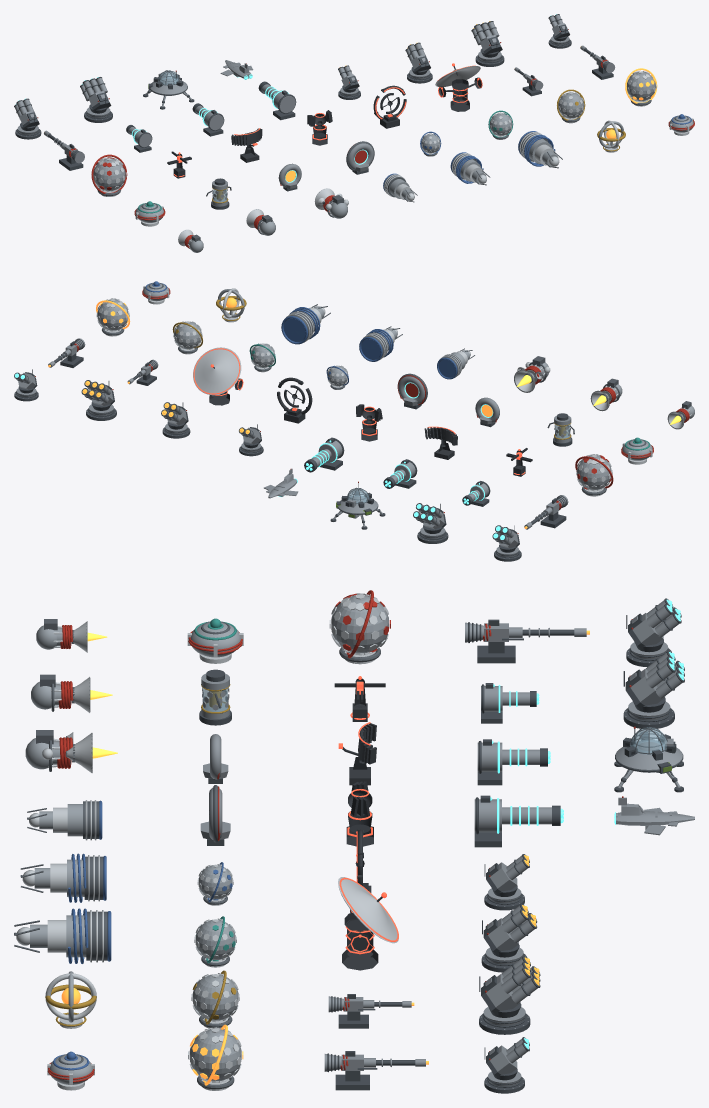
Rendered from device_constructor.glb.
3 views of the same model, one above another, from view 1: azimuth 30°, elevation 25°; view 2: azimuth 150°, elevation 25°; view 3: azimuth 270°, elevation 25° (orthographic). The views are drawn at different scales.
Parts seen in each view (by area): view 1: 021_humans_SCANNER_5, 016_humans_SHIELD_TIME_2, 005_humans_INTERSTELLAR_ENGINE_3, 033_humans_WEAPON_PHAZER_RAPID_3, 030_humans_WEAPON_LAZER_RAPID_3, 015_humans_SHIELD_SMART_2, 004_humans_INTERSTELLAR_ENGINE_2, 034_humans_AUX_COLONY_BASE, 032_humans_WEAPON_PHAZER_RAPID_2, 029_humans_WEAPON_LAZER_RAPID_2, 027_humans_WEAPON_PHAZER_BEAM_3, 014_humans_SHIELD_TIME_1 (+22 smaller); view 2: 021_humans_SCANNER_5, 016_humans_SHIELD_TIME_2, 005_humans_INTERSTELLAR_ENGINE_3, 030_humans_WEAPON_LAZER_RAPID_3, 033_humans_WEAPON_PHAZER_RAPID_3, 015_humans_SHIELD_SMART_2, 034_humans_AUX_COLONY_BASE, 004_humans_INTERSTELLAR_ENGINE_2, 027_humans_WEAPON_PHAZER_BEAM_3, 002_humans_ENGINE_3, 011_humans_GENERATOR_5, 029_humans_WEAPON_LAZER_RAPID_2 (+22 smaller); view 3: 005_humans_INTERSTELLAR_ENGINE_3, 021_humans_SCANNER_5, 016_humans_SHIELD_TIME_2, 030_humans_WEAPON_LAZER_RAPID_3, 033_humans_WEAPON_PHAZER_RAPID_3, 004_humans_INTERSTELLAR_ENGINE_2, 015_humans_SHIELD_SMART_2, 034_humans_AUX_COLONY_BASE, 027_humans_WEAPON_PHAZER_BEAM_3, 024_humans_WEAPON_LAZER_BEAM_3, 032_humans_WEAPON_PHAZER_RAPID_2, 029_humans_WEAPON_LAZER_RAPID_2 (+23 smaller).
Part boxes in pixels (x1,y1,x2,y2): 021_humans_SCANNER_5: (435, 63, 482, 111); 016_humans_SHIELD_TIME_2: (91, 154, 127, 196); 005_humans_INTERSTELLAR_ENGINE_3: (518, 131, 562, 168); 033_humans_WEAPON_PHAZER_RAPID_3: (80, 77, 112, 122); 030_humans_WEAPON_LAZER_RAPID_3: (471, 21, 504, 66); 015_humans_SHIELD_SMART_2: (625, 68, 657, 106); 004_humans_INTERSTELLAR_ENGINE_2: (450, 152, 490, 185); 034_humans_AUX_COLONY_BASE: (143, 70, 194, 109); 032_humans_WEAPON_PHAZER_RAPID_2: (14, 98, 41, 139); 029_humans_WEAPON_LAZER_RAPID_2: (405, 42, 432, 83); 027_humans_WEAPON_PHAZER_BEAM_3: (258, 81, 296, 120); 014_humans_SHIELD_TIME_1: (557, 89, 585, 123); 021_humans_SCANNER_5: (193, 347, 243, 405); 016_humans_SHIELD_TIME_2: (575, 454, 613, 496); 005_humans_INTERSTELLAR_ENGINE_3: (281, 304, 330, 344); 030_humans_WEAPON_LAZER_RAPID_3: (81, 380, 116, 420); 033_humans_WEAPON_PHAZER_RAPID_3: (413, 503, 448, 543); 015_humans_SHIELD_SMART_2: (96, 298, 130, 336); 034_humans_AUX_COLONY_BASE: (330, 481, 385, 529); 004_humans_INTERSTELLAR_ENGINE_2: (359, 326, 402, 361); 027_humans_WEAPON_PHAZER_BEAM_3: (304, 437, 344, 472); 002_humans_ENGINE_3: (514, 356, 550, 392); 011_humans_GENERATOR_5: (397, 373, 427, 409); 029_humans_WEAPON_LAZER_RAPID_2: (161, 402, 190, 438); 005_humans_INTERSTELLAR_ENGINE_3: (14, 908, 111, 963); 021_humans_SCANNER_5: (338, 877, 398, 970); 016_humans_SHIELD_TIME_2: (329, 590, 390, 664); 030_humans_WEAPON_LAZER_RAPID_3: (479, 956, 540, 1034); 033_humans_WEAPON_PHAZER_RAPID_3: (623, 650, 684, 728); 004_humans_INTERSTELLAR_ENGINE_2: (20, 853, 106, 902); 015_humans_SHIELD_SMART_2: (188, 1024, 243, 1090); 034_humans_AUX_COLONY_BASE: (614, 726, 683, 792); 027_humans_WEAPON_PHAZER_BEAM_3: (474, 795, 563, 847); 024_humans_WEAPON_LAZER_BEAM_3: (465, 619, 589, 663); 032_humans_WEAPON_PHAZER_RAPID_2: (626, 598, 681, 666); 029_humans_WEAPON_LAZER_RAPID_2: (481, 904, 537, 972).
Size of the model in its own units: 22.42 by 1.85 by 14.14.
